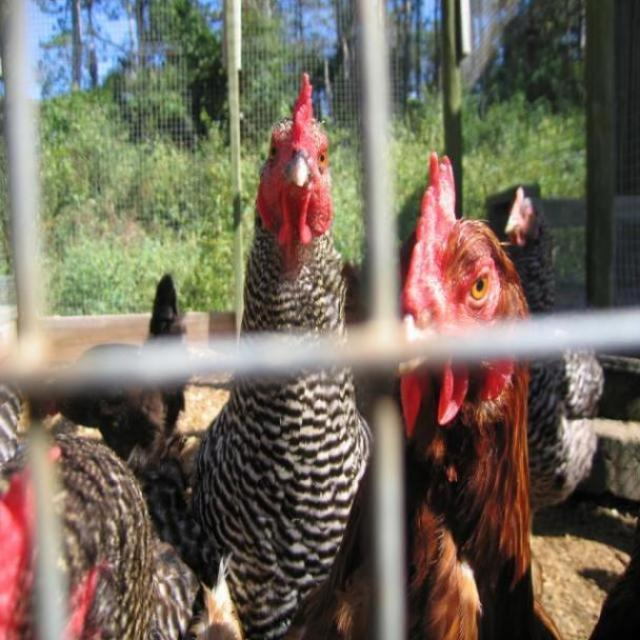Chicken: (0, 69, 605, 639), (378, 153, 555, 628)
